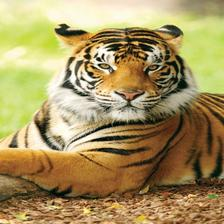tiger: (26, 21, 224, 205)
